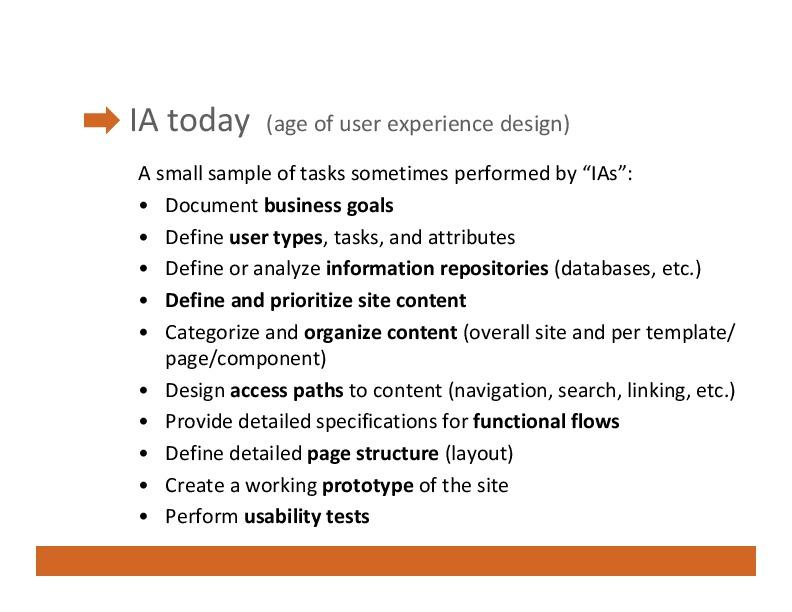paragraph: (133, 155, 754, 537)
title: (121, 88, 587, 137)
